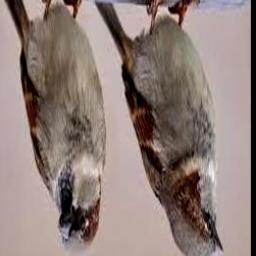Sparrow: (93, 0, 223, 256), (0, 0, 107, 256)
